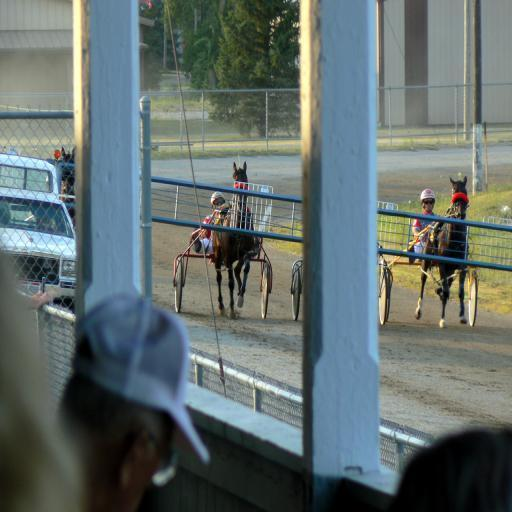horse: (414, 174, 470, 330), (212, 163, 254, 323), (58, 146, 76, 226)
